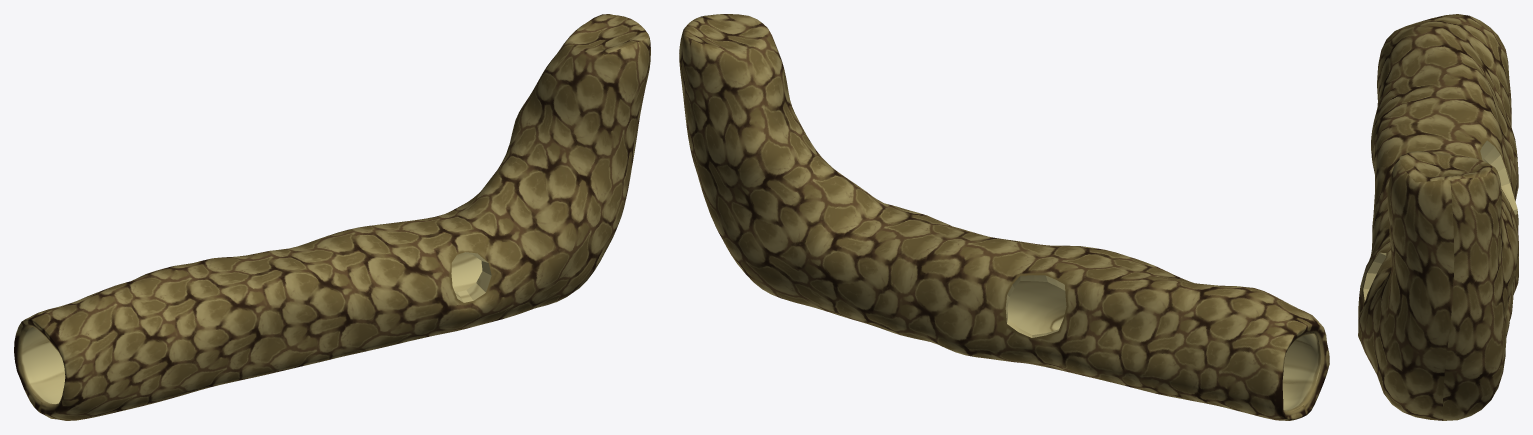
Rendered from TutorialLog_Model.fbx.
3 renders of one model, left to right at view 1: azimuth 30°, elevation 25°; view 2: azimuth 150°, elevation 25°; view 3: azimuth 270°, elevation 25°, orthographic. The views are drawn at different scales.
Parts seen in each view (by area): view 1: TutorialLog; view 2: TutorialLog; view 3: TutorialLog.
Part boxes in pixels (x1,y1,x2,y2): TutorialLog: (14, 14, 650, 420); TutorialLog: (679, 14, 1329, 420); TutorialLog: (1358, 14, 1518, 420).
Size of the model in its own units: 105 by 41.45 by 20.13.
1 material, 1 textured.
